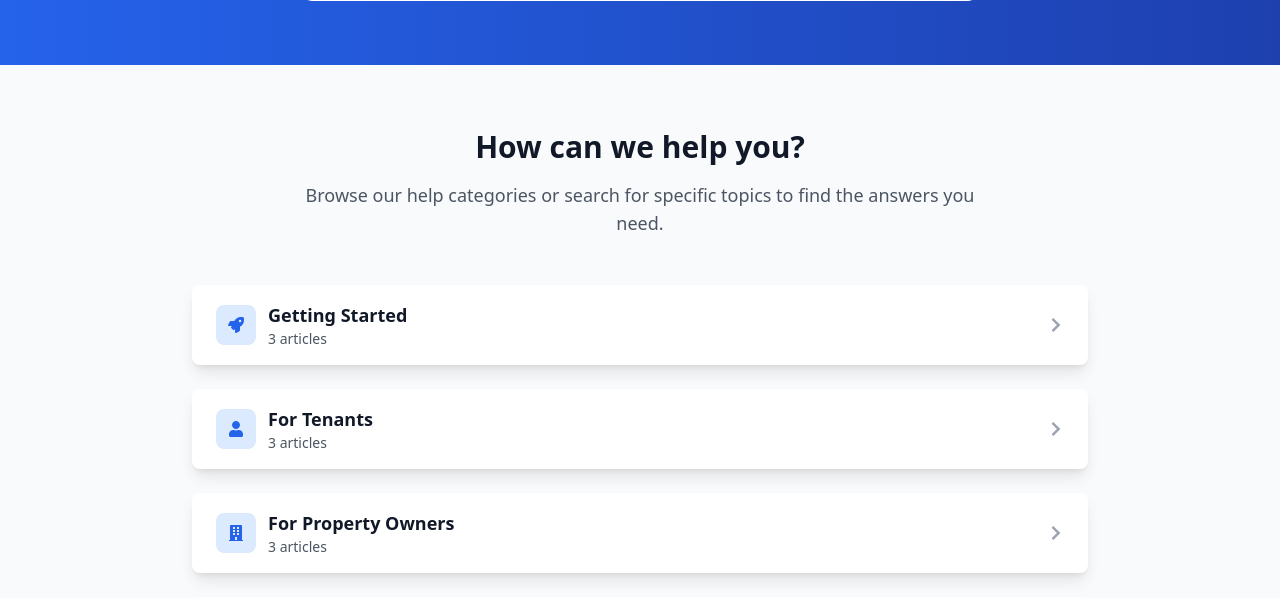
Test case: HelpPage › expands category when clicked
(page scrolled)
Click the heading "Getting Started".
click(338, 315)  # box x1=268 y1=301 x2=407 y2=329
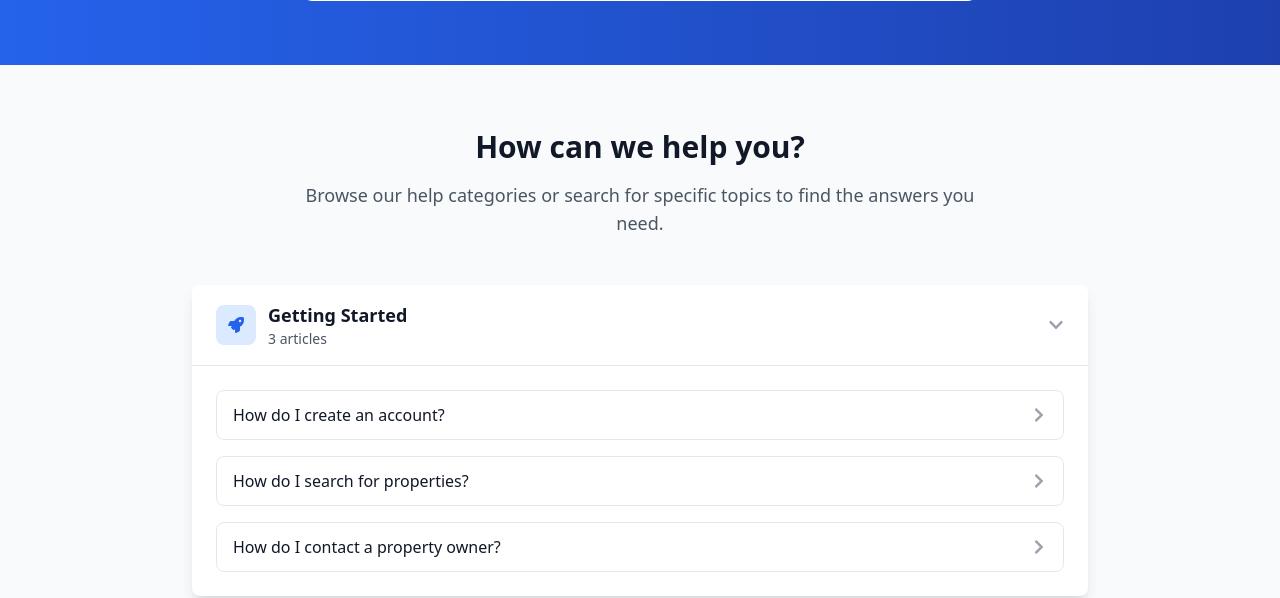
Now the text "How do I create an account?" is shown, box x1=233 y1=403 x2=445 y2=427
